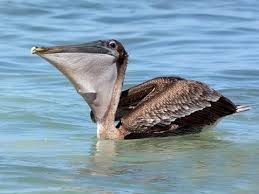pelican: (31, 39, 236, 136)
